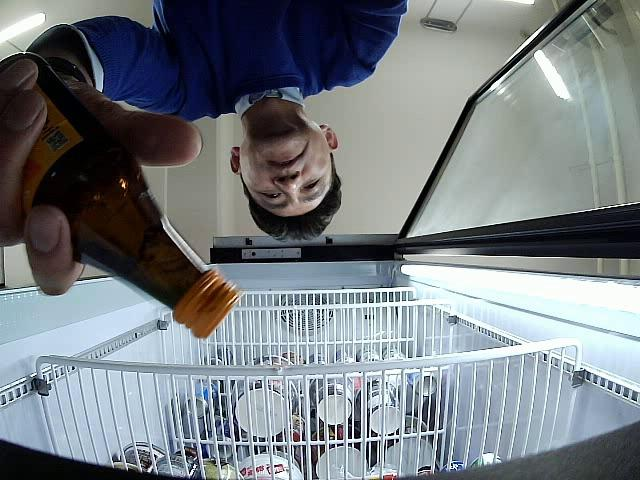00_hand: (1, 53, 201, 296)
17_vita500: (20, 51, 236, 336)
